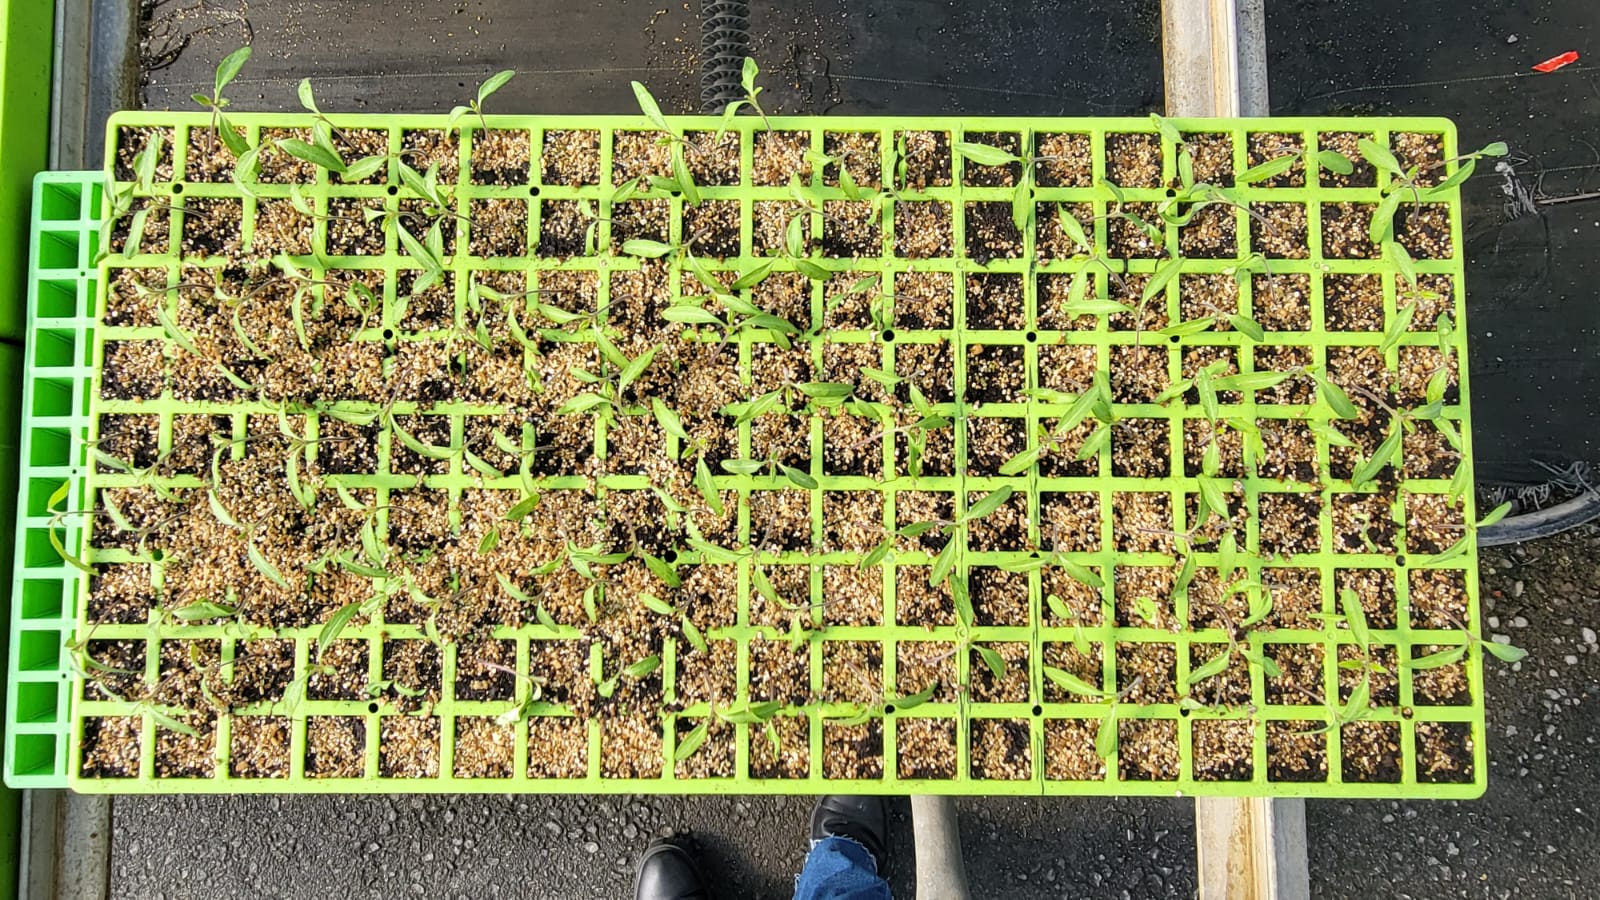Slot: (119, 126, 174, 181), (259, 126, 314, 181), (331, 130, 386, 185), (401, 131, 456, 186), (112, 200, 167, 255), (189, 201, 244, 256), (182, 268, 237, 323), (174, 412, 229, 467), (171, 490, 226, 545), (260, 197, 315, 252), (333, 200, 388, 255), (475, 203, 530, 258), (260, 268, 315, 323), (401, 267, 456, 322), (323, 345, 378, 400), (471, 349, 526, 404), (467, 423, 522, 478), (323, 486, 378, 541), (164, 638, 219, 693), (238, 638, 293, 693), (315, 634, 370, 689), (457, 637, 512, 692), (615, 134, 670, 189), (545, 203, 600, 258), (616, 204, 671, 259), (615, 270, 670, 325), (542, 349, 597, 404), (611, 349, 666, 404), (537, 423, 592, 478), (608, 490, 663, 545), (530, 571, 585, 626), (527, 637, 582, 692), (687, 133, 742, 188), (759, 134, 814, 189), (689, 203, 744, 258), (760, 204, 815, 259), (687, 268, 742, 323), (759, 270, 814, 325), (686, 349, 741, 404), (681, 423, 736, 478), (679, 489, 734, 544), (746, 568, 801, 623), (681, 643, 736, 698), (749, 642, 804, 697), (901, 130, 956, 185), (830, 264, 885, 319), (827, 345, 882, 400), (897, 345, 952, 400), (823, 419, 878, 474), (823, 490, 878, 545), (893, 486, 948, 541), (897, 564, 952, 619), (900, 638, 955, 693), (968, 130, 1023, 185), (1034, 131, 1089, 186), (967, 275, 1022, 330), (971, 416, 1026, 471), (1035, 420, 1090, 475), (968, 497, 1023, 552), (976, 570, 1031, 625), (1041, 567, 1096, 622), (1044, 642, 1099, 697), (1112, 209, 1167, 264), (1112, 279, 1167, 334), (1111, 348, 1166, 403), (1114, 493, 1169, 548), (1121, 647, 1176, 702), (1181, 133, 1236, 188), (1182, 203, 1237, 258), (1181, 269, 1236, 324), (1186, 420, 1241, 475), (1185, 486, 1240, 541), (1248, 133, 1303, 188), (1325, 276, 1380, 331), (1256, 348, 1311, 403), (1323, 351, 1378, 405), (1255, 419, 1310, 474), (1326, 420, 1381, 475), (1259, 497, 1314, 552), (1267, 570, 1322, 625), (1332, 567, 1387, 622), (1384, 138, 1438, 193), (1399, 277, 1454, 332), (1400, 351, 1455, 405), (1402, 420, 1457, 475), (1411, 567, 1466, 622), (1412, 647, 1467, 702), (826, 722, 881, 777), (900, 720, 955, 775), (976, 723, 1031, 778), (1047, 723, 1102, 778), (1115, 723, 1170, 778), (1195, 722, 1249, 777), (1273, 726, 1327, 781), (1414, 723, 1469, 778), (530, 722, 585, 777), (603, 724, 658, 779), (677, 724, 732, 779), (749, 715, 804, 770), (73, 720, 127, 775), (304, 713, 359, 768), (375, 715, 430, 770), (186, 129, 241, 182), (474, 133, 527, 188), (110, 268, 164, 323), (107, 341, 160, 396), (101, 414, 156, 468), (103, 485, 158, 538), (177, 342, 231, 397), (403, 201, 457, 256), (331, 266, 386, 320), (474, 268, 527, 323), (255, 342, 309, 397), (397, 347, 452, 401), (253, 418, 308, 471), (325, 420, 379, 475), (396, 422, 449, 477), (247, 490, 301, 545), (393, 488, 448, 542), (466, 489, 520, 544), (93, 563, 148, 616), (84, 641, 138, 695), (166, 560, 220, 615), (245, 566, 300, 620), (318, 568, 371, 623), (389, 566, 444, 620), (459, 566, 514, 620), (386, 636, 441, 690), (544, 133, 598, 188), (544, 268, 598, 323), (609, 425, 664, 479), (536, 489, 590, 544), (603, 568, 657, 623), (603, 645, 658, 699), (755, 349, 809, 404), (753, 425, 808, 479), (752, 490, 805, 545), (679, 563, 734, 616), (830, 129, 885, 182), (831, 199, 886, 253), (903, 200, 957, 255), (901, 266, 956, 320), (896, 420, 949, 475), (825, 567, 879, 622), (825, 641, 879, 696), (970, 200, 1024, 255), (1033, 201, 1087, 256), (1033, 271, 1087, 326), (967, 347, 1022, 401), (1035, 347, 1090, 401), (1041, 492, 1095, 547), (976, 644, 1031, 698), (1104, 135, 1158, 190), (1115, 427, 1169, 482), (1184, 349, 1238, 403), (1193, 568, 1248, 622), (1191, 638, 1245, 693), (1314, 135, 1368, 190), (1254, 198, 1308, 253), (1246, 279, 1301, 333), (1332, 492, 1386, 547), (1267, 644, 1322, 698), (1335, 642, 1389, 697), (1396, 208, 1451, 262), (1405, 498, 1459, 553), (1343, 725, 1397, 780), (457, 721, 512, 775), (153, 719, 208, 773), (227, 719, 282, 773), (1116, 569, 1170, 623), (1316, 200, 1370, 254)
